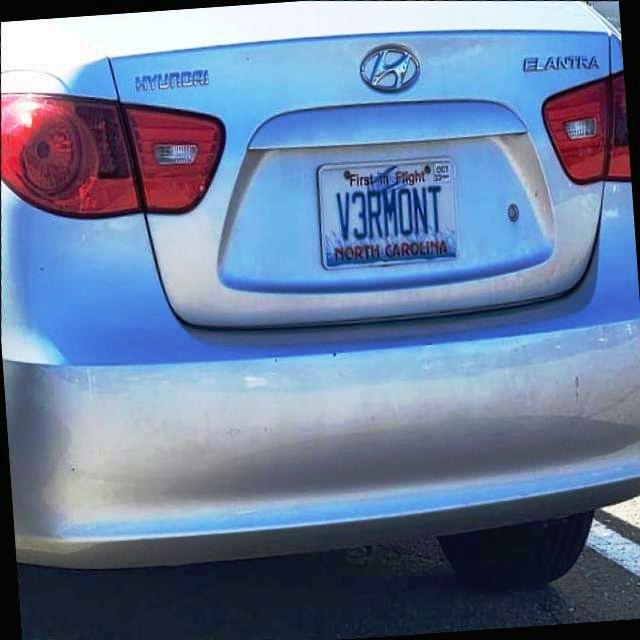license_plate: (317, 159, 459, 269)
